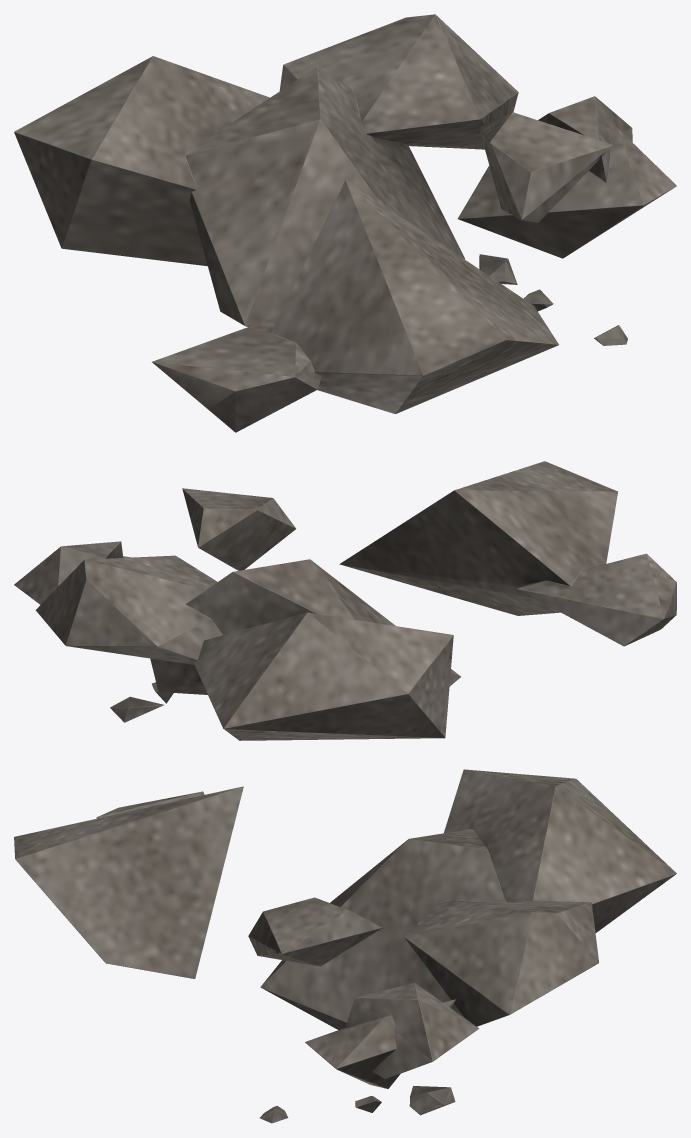
File: boulder_28.glb
3 views of the same model, one above another, from view 1: azimuth 30°, elevation 25°; view 2: azimuth 150°, elevation 25°; view 3: azimuth 270°, elevation 25° (orthographic). The views are drawn at different scales.
Parts seen in each view (by area): view 1: boulder_28_c0; view 2: boulder_28_c0; view 3: boulder_28_c0.
Part boxes in pixels (bbox=[...]): boulder_28_c0: bbox=[14, 14, 676, 432]; boulder_28_c0: bbox=[14, 461, 676, 740]; boulder_28_c0: bbox=[14, 769, 676, 1123].
Size of the model in its own units: 2.87 by 1.13 by 3.11.
Materials: 1 (1 with a texture image).
